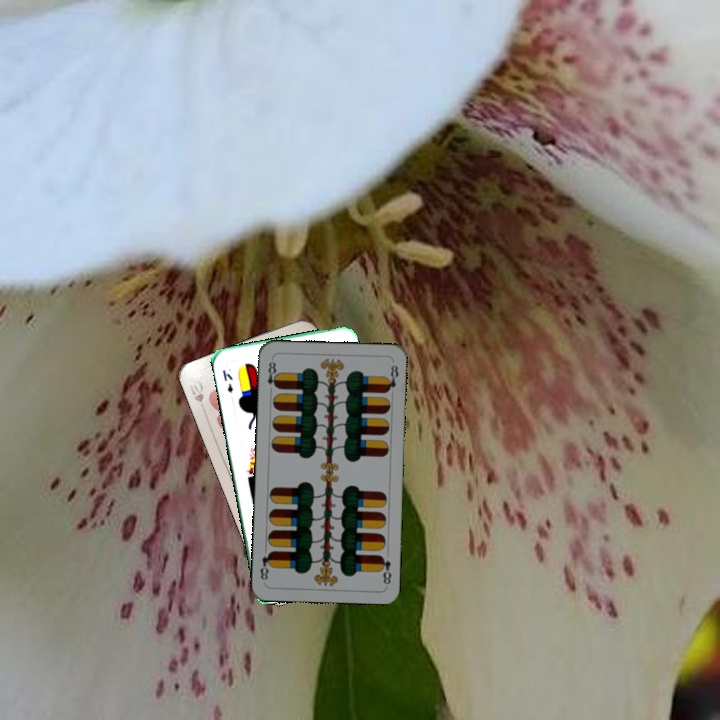E8: (263, 357, 281, 396), (376, 551, 394, 587)
EK: (218, 366, 236, 395)
H10: (183, 376, 208, 416)
